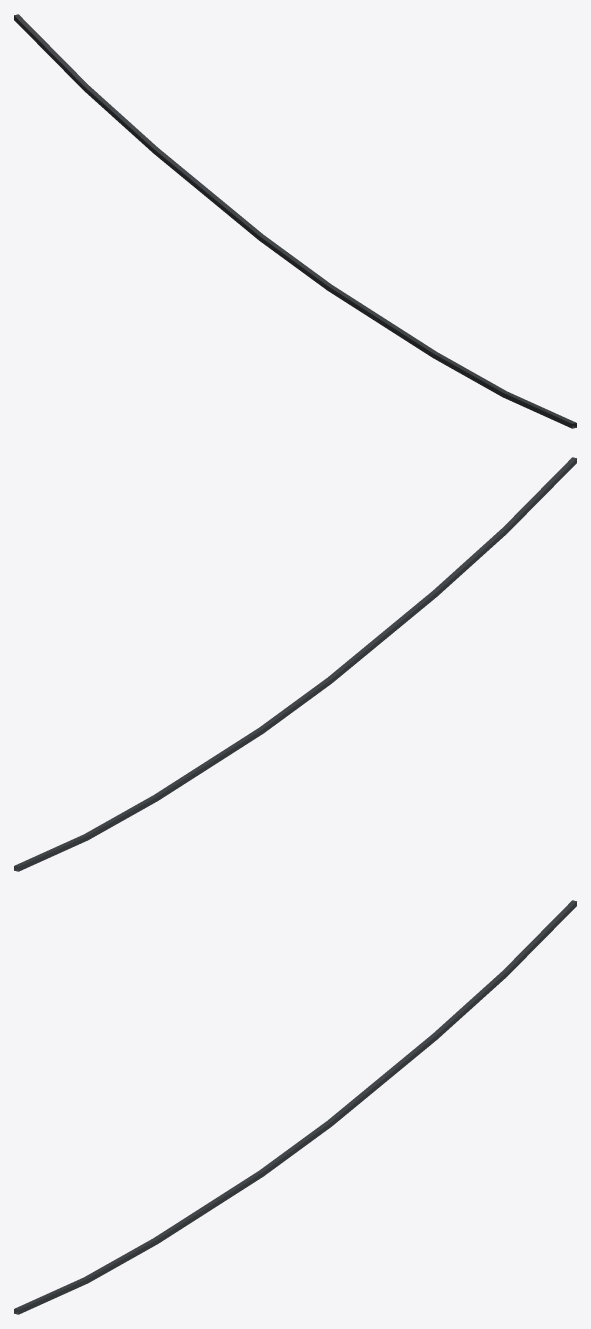
The model's file is SM_Prop_Power_Cables_03.fbx.
3 renders of one model, top to bottom at view 1: azimuth 30°, elevation 25°; view 2: azimuth 150°, elevation 25°; view 3: azimuth 330°, elevation 25°, orthographic.
Parts seen in each view (by area): view 1: SM_Prop_Power_Cables_03; view 2: SM_Prop_Power_Cables_03; view 3: SM_Prop_Power_Cables_03.
Boxes of the visible parts, bbox=[...] form: SM_Prop_Power_Cables_03: bbox=[14, 14, 576, 428]; SM_Prop_Power_Cables_03: bbox=[14, 457, 576, 871]; SM_Prop_Power_Cables_03: bbox=[14, 900, 576, 1314].
Bounding box in the file's own units: 6.36 × 61.15 × 1349.
